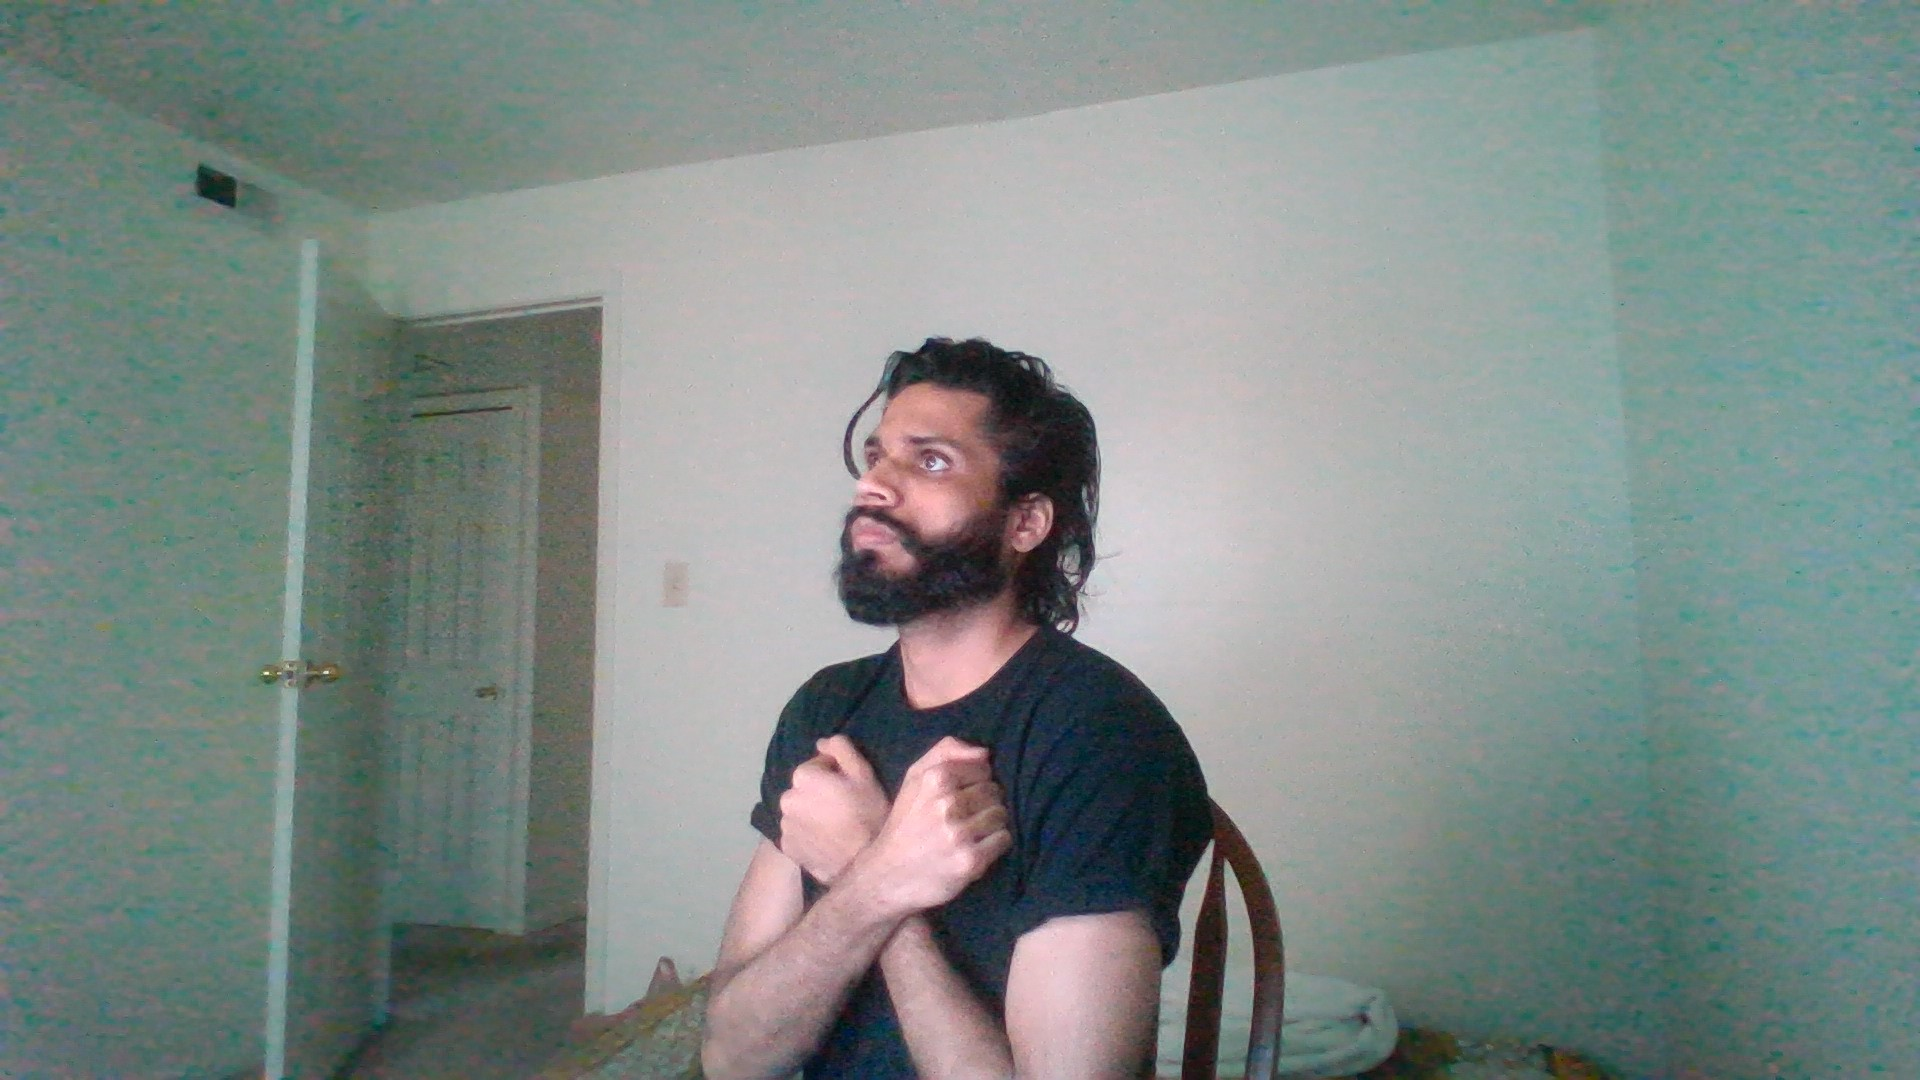Love: (745, 719, 1029, 1069)
